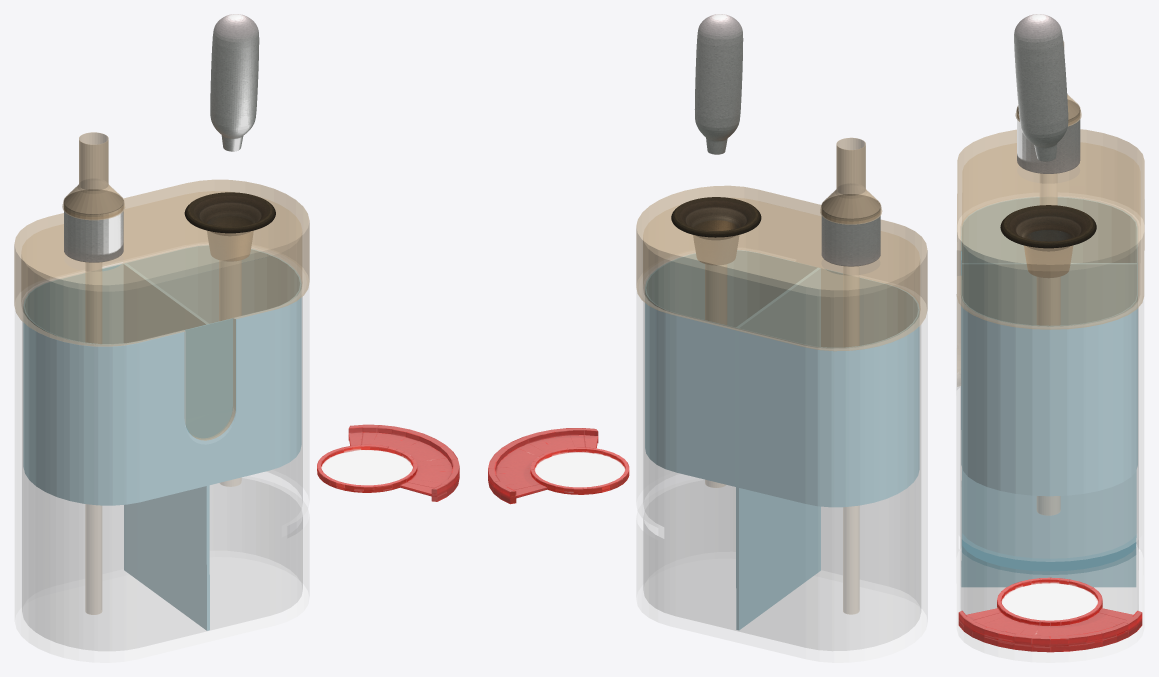
Rendered from Bottle.glb.
The picture shows the model from 3 angles, left to right: view 1: azimuth 30°, elevation 25°; view 2: azimuth 150°, elevation 25°; view 3: azimuth 270°, elevation 25°; orthographic projection. The views are drawn at different scales.
Parts seen in each view (by area): view 1: Outter, OutterInner, Inner, Upper, Card, Can, CanOppener, MentalTubes, Straws, StrawDown, CanStrawDown; view 2: Outter, OutterInner, Inner, Upper, Card, Can, CanOppener, MentalTubes, Straws, StrawDown, CanStrawDown; view 3: Inner, Outter, OutterInner, Upper, Card, Can, CanOppener, MentalTubes, CanStrawDown, StrawDown, Straws.
Boxes of the visible parts, bbox=[...] form: Outter: bbox=[14, 262, 309, 662]; OutterInner: bbox=[22, 263, 302, 650]; Inner: bbox=[23, 245, 301, 630]; Upper: bbox=[14, 179, 309, 440]; Card: bbox=[317, 424, 459, 501]; Can: bbox=[210, 14, 259, 151]; CanOppener: bbox=[184, 192, 275, 261]; MentalTubes: bbox=[64, 189, 123, 262]; Straws: bbox=[62, 132, 125, 220]; StrawDown: bbox=[85, 262, 101, 614]; CanStrawDown: bbox=[219, 260, 241, 486]; Outter: bbox=[636, 274, 927, 662]; OutterInner: bbox=[643, 302, 920, 650]; Inner: bbox=[645, 250, 919, 630]; Upper: bbox=[636, 185, 927, 351]; Card: bbox=[488, 428, 629, 504]; Can: bbox=[694, 14, 743, 154]; CanOppener: bbox=[671, 197, 761, 265]; MentalTubes: bbox=[821, 194, 880, 266]; Straws: bbox=[820, 137, 882, 224]; StrawDown: bbox=[843, 266, 859, 614]; CanStrawDown: bbox=[705, 264, 726, 487]; Inner: bbox=[961, 197, 1137, 587]; Outter: bbox=[956, 209, 1144, 662]; OutterInner: bbox=[960, 306, 1138, 614]; Upper: bbox=[956, 129, 1144, 386]; Card: bbox=[958, 577, 1142, 652]; Can: bbox=[1014, 14, 1068, 161]; CanOppener: bbox=[1000, 205, 1096, 277]; MentalTubes: bbox=[1017, 100, 1080, 173]; CanStrawDown: bbox=[1037, 277, 1060, 515]; StrawDown: bbox=[1040, 173, 1057, 204]; Straws: bbox=[1015, 41, 1081, 126].
Bounding box in the file's own units: 6.84 × 9.09 × 2.53.
Materials: 7 (2 with a texture image).
